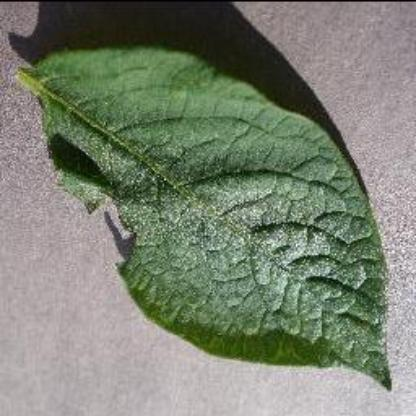Healthy-plant: (12, 46, 392, 392)
